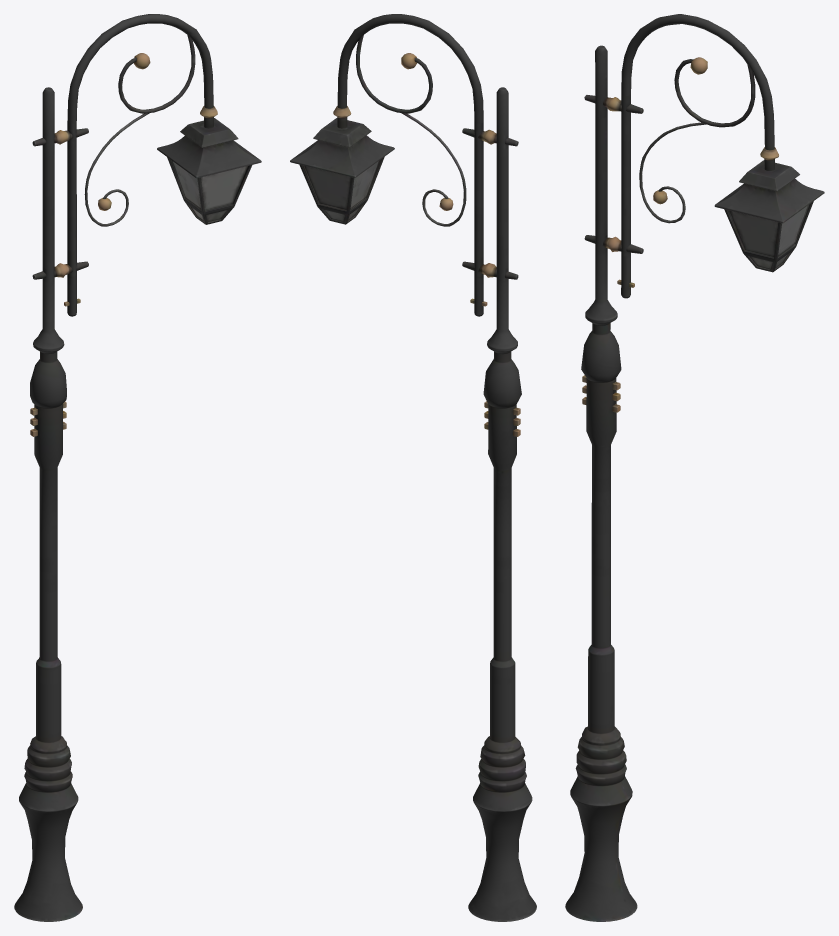
The model's file is SM_LightPole_A_8ac73e.glb.
The picture shows the model from 3 angles, left to right: view 1: azimuth 30°, elevation 25°; view 2: azimuth 150°, elevation 25°; view 3: azimuth 330°, elevation 25°; orthographic projection. The views are drawn at different scales.
Size of the model in its own units: 0.7689 by 2.86 by 0.2368.
Materials: 1 (1 with a texture image).
